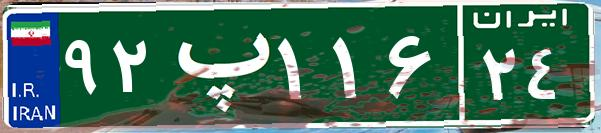1: (273, 28, 330, 110), (330, 28, 385, 110)
2: (475, 38, 525, 113), (110, 28, 158, 105)
4: (525, 38, 570, 115)
6: (385, 28, 445, 110)
9: (57, 26, 110, 107)
پ: (158, 15, 273, 115)
